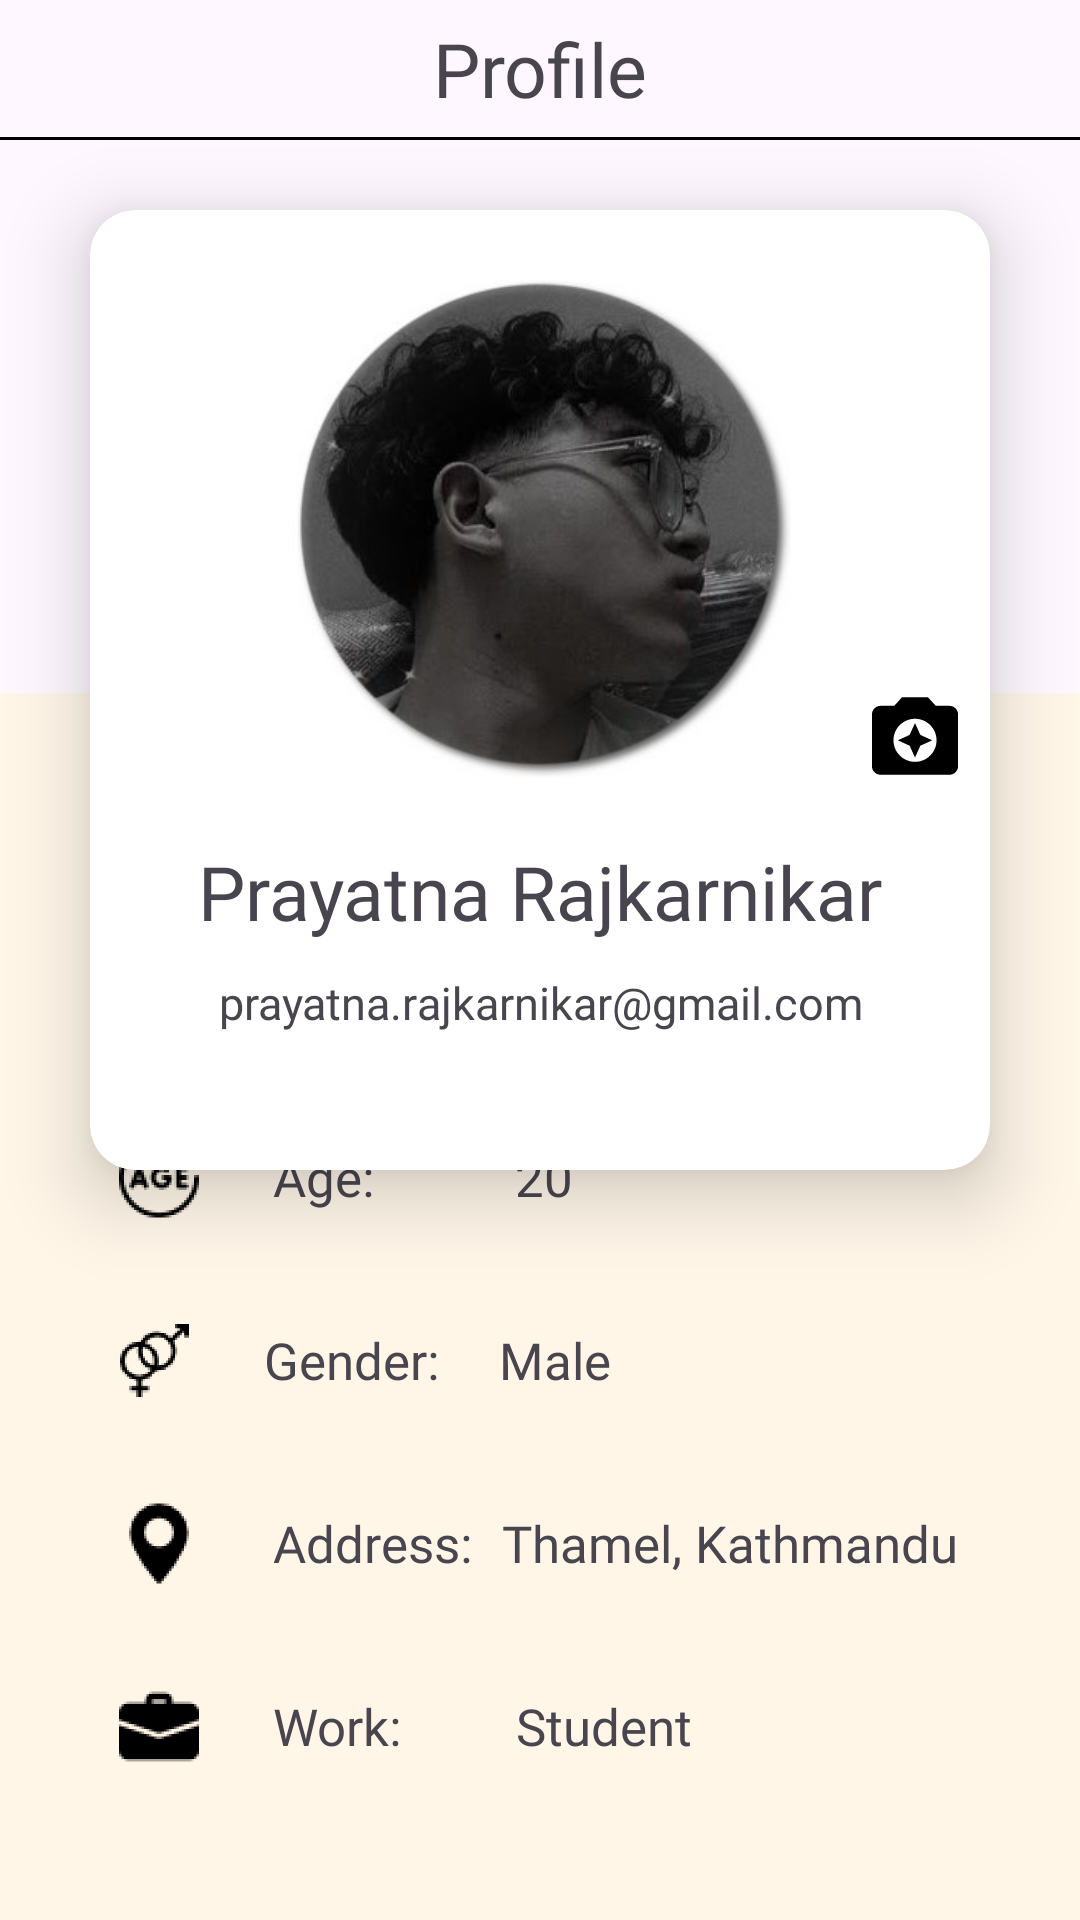

Icons on this 1080x1920 Android screen, each with its box as [x1,y1,x2,y2]:
camera: [872,697,958,775]
